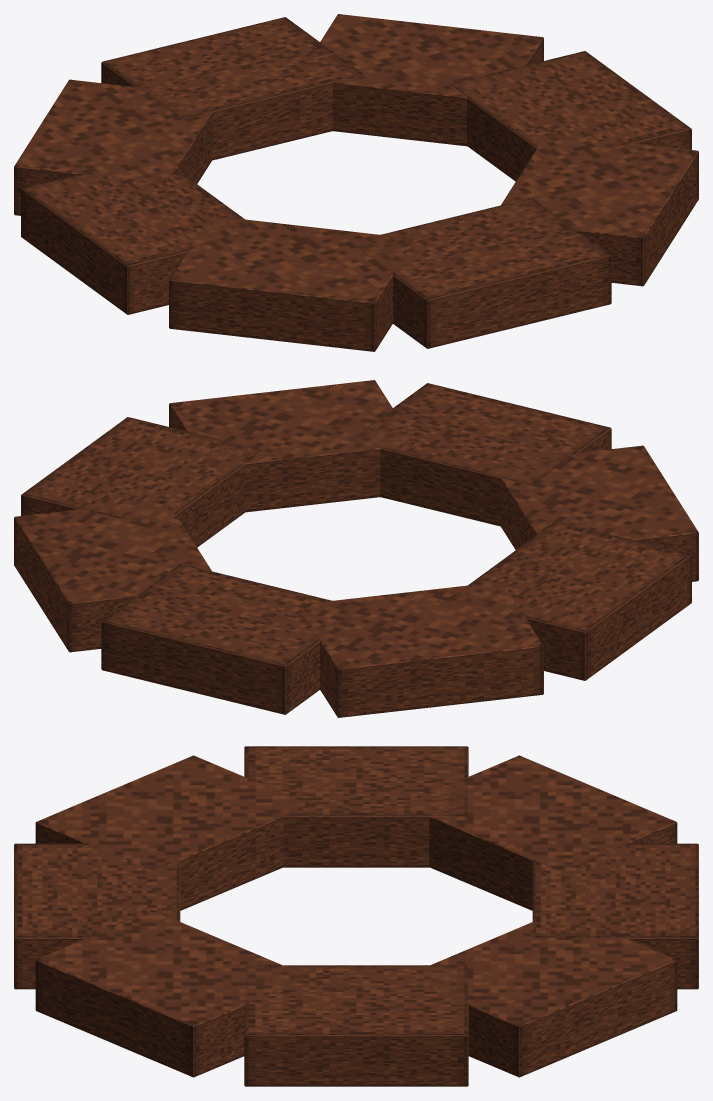
File: env_hole_magma_backing.fbx
The picture shows the model from 3 angles, top to bottom: view 1: azimuth 30°, elevation 25°; view 2: azimuth 150°, elevation 25°; view 3: azimuth 270°, elevation 25°; orthographic projection. The views are drawn at different scales.
Visible parts, largest first — view 1: env_hole_magma_backing; view 2: env_hole_magma_backing; view 3: env_hole_magma_backing.
Part boxes in pixels (x1,y1,x2,y2): env_hole_magma_backing: (14, 14, 698, 351); env_hole_magma_backing: (14, 380, 698, 717); env_hole_magma_backing: (14, 746, 698, 1086).
Bounding box in the file's own units: 144 × 12 × 144.
Materials: 1 (1 with a texture image).
